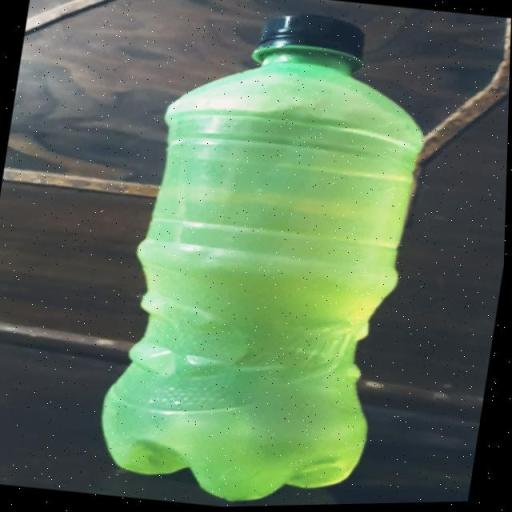plastic: (102, 17, 424, 505)
